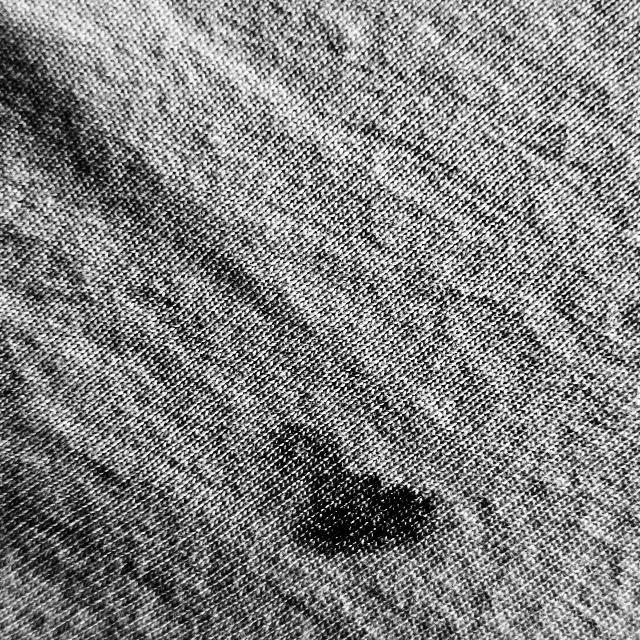Color_defect: (246, 426, 455, 565)
